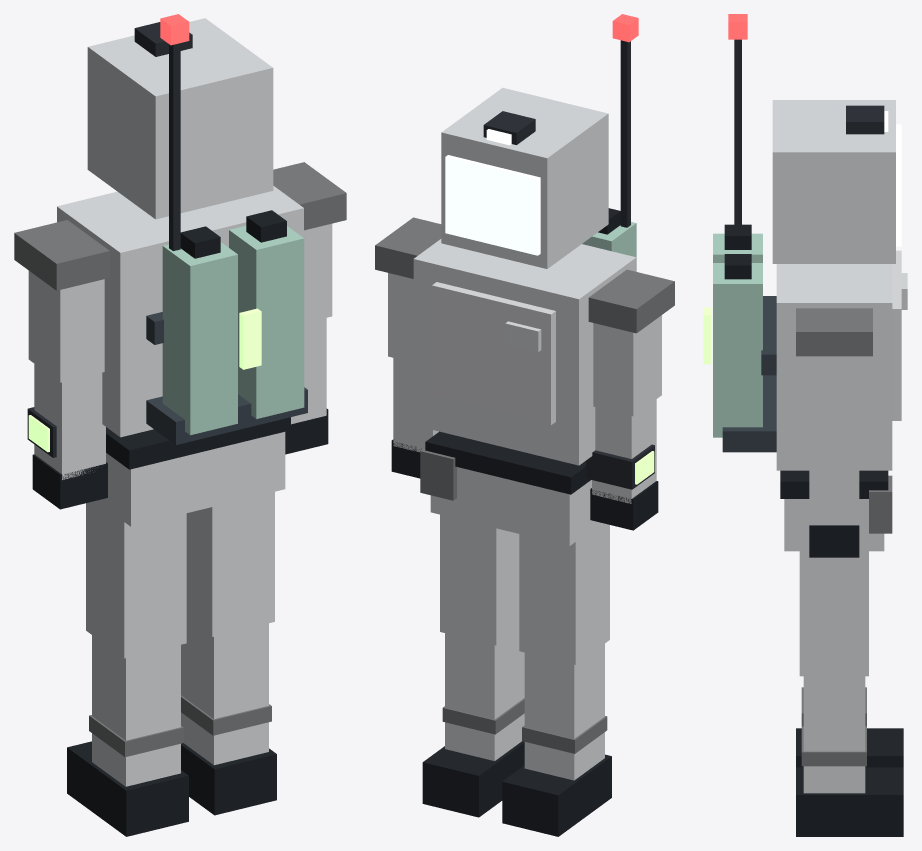
File: bio_tech_white.glb
3 renders of one model, left to right at view 1: azimuth 30°, elevation 25°; view 2: azimuth 150°, elevation 25°; view 3: azimuth 270°, elevation 25°, orthographic. The views are drawn at different scales.
Visible parts, largest first — view 1: Merged6, Merged, Merged7, Merged8, Merged9, _MeshInstance3D_2663, Merged3, _MeshInstance3D_2674, Merged2, Merged5, Merged4; view 2: Merged6, Merged, Merged7, Merged8, Merged9, _MeshInstance3D_2663, Merged3, _MeshInstance3D_2674, Merged2, Merged5, Merged4; view 3: Merged6, Merged, Merged8, Merged5, _MeshInstance3D_2674, Merged4, Merged9, Merged7.
Boxes of the visible parts, <box> form: Merged6: <box>57,14,307,444</box>; Merged: <box>87,18,273,219</box>; Merged7: <box>67,635,188,836</box>; Merged8: <box>181,618,276,815</box>; Merged9: <box>96,417,290,526</box>; _MeshInstance3D_2663: <box>86,501,186,658</box>; Merged3: <box>14,220,109,382</box>; _MeshInstance3D_2674: <box>186,492,274,636</box>; Merged2: <box>27,364,107,509</box>; Merged5: <box>273,162,346,322</box>; Merged4: <box>285,318,328,454</box>; Merged6: <box>413,14,638,465</box>; Merged: <box>441,87,608,268</box>; Merged7: <box>502,644,611,836</box>; Merged8: <box>422,629,524,817</box>; Merged9: <box>420,431,600,545</box>; _MeshInstance3D_2663: <box>519,523,609,664</box>; Merged3: <box>588,269,674,416</box>; _MeshInstance3D_2674: <box>440,514,519,645</box>; Merged2: <box>586,399,658,530</box>; Merged5: <box>375,217,441,362</box>; Merged4: <box>391,358,438,478</box>; Merged6: <box>703,14,907,470</box>; Merged: <box>772,100,901,263</box>; Merged8: <box>796,676,903,836</box>; Merged5: <box>796,308,872,441</box>; _MeshInstance3D_2674: <box>799,551,868,676</box>; Merged4: <box>809,441,859,557</box>; Merged9: <box>780,470,892,551</box>; Merged7: <box>796,687,903,767</box>.
Size of the model in its own units: 0.79 by 2.18 by 0.53.
